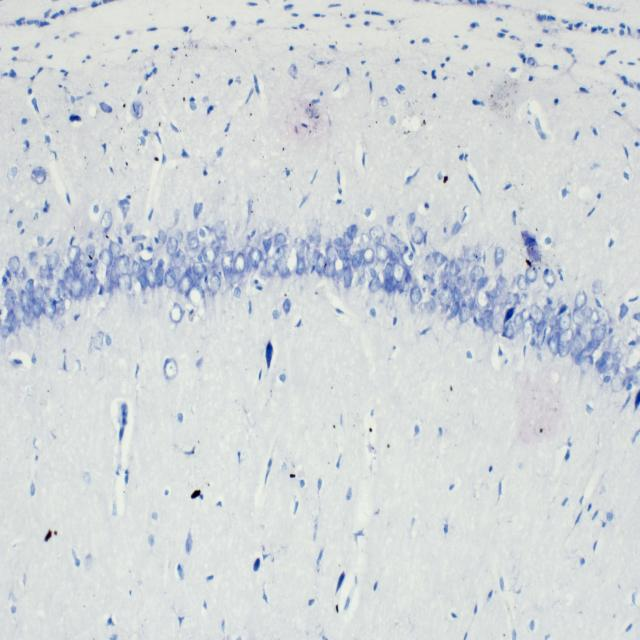neuron: (570, 332, 587, 362), (188, 284, 205, 308), (67, 277, 84, 300), (369, 224, 386, 246), (221, 250, 234, 278), (483, 275, 498, 299), (201, 245, 218, 266), (276, 255, 290, 279), (196, 276, 211, 298), (476, 290, 491, 312), (106, 262, 120, 285), (492, 312, 506, 335), (610, 371, 625, 392), (39, 265, 53, 287), (248, 247, 262, 269), (529, 304, 543, 326), (98, 249, 114, 268), (170, 250, 186, 269), (27, 297, 42, 317), (232, 251, 245, 274), (512, 312, 525, 335), (118, 273, 132, 294), (100, 210, 112, 234), (306, 245, 318, 269), (482, 309, 494, 333), (117, 254, 130, 276), (316, 252, 327, 278), (579, 354, 594, 373), (376, 244, 390, 264), (19, 289, 30, 314), (210, 273, 221, 298), (356, 233, 372, 250), (67, 245, 81, 264), (178, 274, 192, 293), (601, 350, 615, 369), (170, 302, 182, 324), (393, 262, 405, 284), (440, 285, 452, 307), (13, 302, 23, 328), (164, 268, 177, 288), (558, 312, 571, 332), (574, 290, 587, 310), (559, 328, 574, 345), (585, 338, 600, 355), (591, 324, 606, 341), (325, 245, 339, 263), (470, 265, 484, 283), (523, 317, 535, 338), (572, 306, 586, 324), (186, 230, 199, 249), (409, 286, 422, 305), (448, 259, 461, 278), (56, 280, 67, 302), (215, 219, 226, 241), (109, 240, 121, 260), (264, 256, 276, 276), (617, 303, 629, 323), (308, 230, 322, 247), (516, 274, 530, 291), (323, 261, 336, 279), (411, 227, 424, 245), (6, 310, 16, 333), (494, 245, 504, 268), (32, 285, 44, 304), (166, 237, 178, 256), (343, 263, 352, 288), (337, 247, 352, 262), (193, 261, 207, 277), (43, 301, 56, 318), (87, 278, 100, 295), (595, 357, 608, 374), (72, 258, 83, 278), (559, 338, 570, 358), (93, 330, 104, 350), (5, 288, 17, 306), (47, 251, 59, 269), (136, 273, 148, 291), (118, 198, 130, 216), (362, 247, 374, 265), (496, 274, 508, 292), (526, 264, 538, 282), (544, 269, 556, 287), (631, 362, 640, 386), (46, 273, 60, 288), (146, 269, 156, 290), (548, 337, 559, 356), (229, 273, 242, 289), (8, 256, 20, 273), (44, 286, 61, 298), (294, 236, 306, 253), (23, 307, 33, 327), (624, 366, 634, 386), (155, 265, 164, 287), (452, 286, 463, 304), (601, 308, 612, 326), (505, 292, 519, 306), (333, 237, 348, 250), (432, 251, 444, 267), (589, 309, 601, 325), (55, 299, 65, 318), (64, 265, 74, 284), (352, 250, 362, 269), (376, 269, 386, 288), (427, 297, 437, 316), (542, 304, 552, 323), (449, 301, 460, 318), (504, 322, 515, 339), (609, 334, 620, 351), (138, 256, 152, 269), (172, 228, 184, 243), (274, 232, 286, 247), (476, 276, 488, 291), (592, 278, 602, 296), (369, 277, 380, 293), (296, 257, 305, 276), (262, 237, 272, 254), (344, 231, 354, 248), (406, 212, 416, 229), (460, 305, 470, 322), (28, 252, 40, 266), (331, 269, 340, 287), (25, 278, 35, 294), (131, 260, 141, 276), (347, 224, 357, 240), (279, 243, 292, 255), (86, 244, 96, 259), (455, 256, 465, 271), (2, 270, 11, 286), (158, 228, 167, 244), (536, 318, 545, 334), (612, 351, 624, 363), (456, 274, 466, 288), (194, 202, 202, 219), (451, 222, 461, 235), (63, 296, 71, 312), (385, 262, 392, 280), (549, 315, 558, 329), (574, 353, 584, 365), (20, 265, 28, 280), (469, 293, 476, 310), (0, 326, 10, 337), (611, 364, 620, 376), (584, 306, 592, 319), (125, 222, 133, 235), (81, 271, 87, 288), (233, 286, 241, 298), (38, 235, 44, 248), (370, 267, 376, 279)
